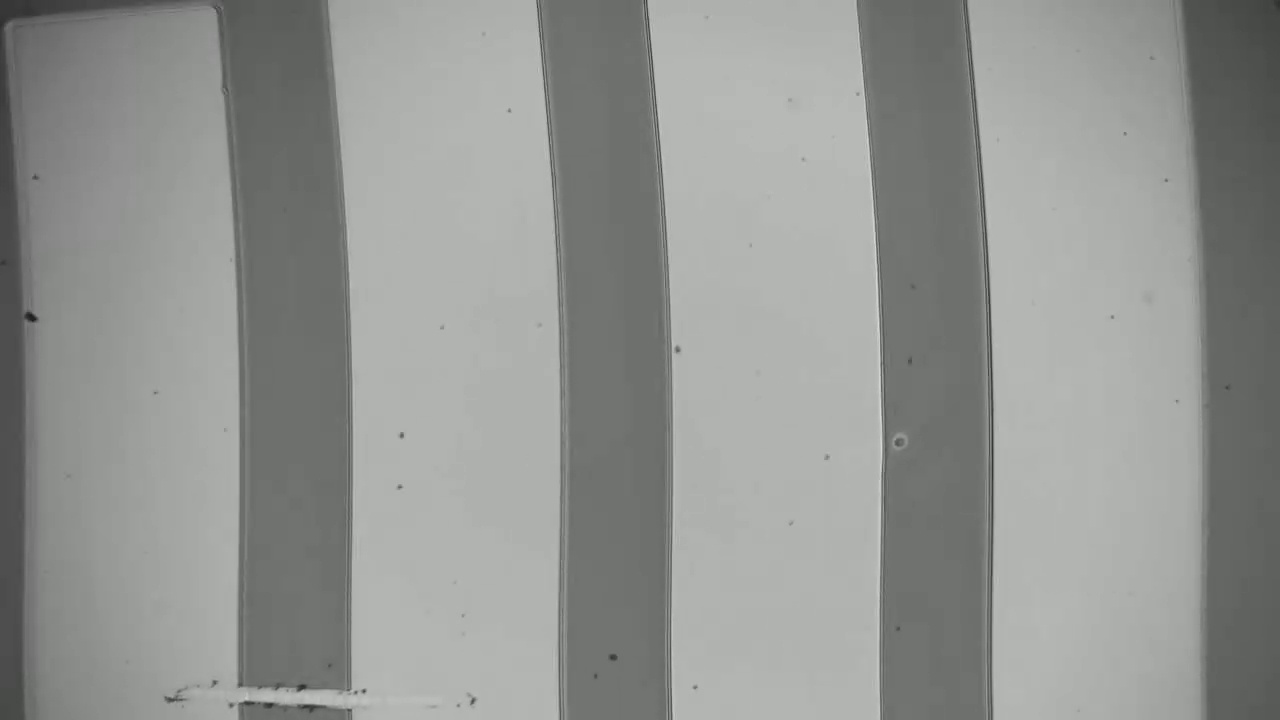Short_circuit: (221, 663, 377, 720)
